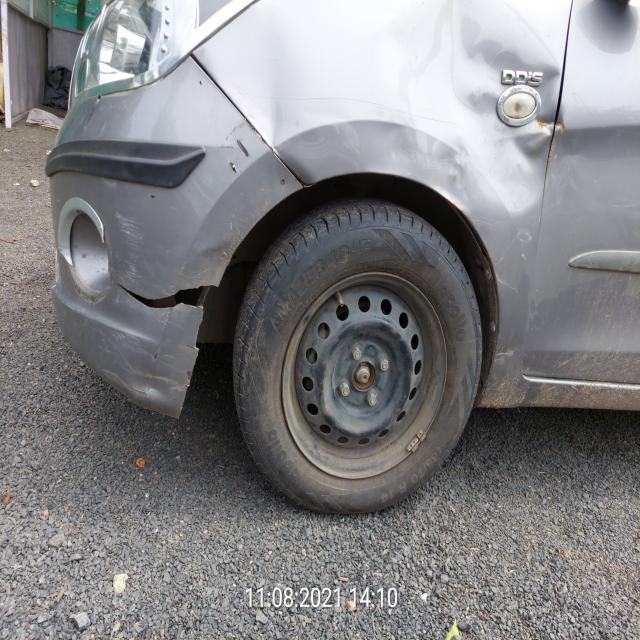damage: (338, 0, 563, 213), (112, 267, 229, 353), (61, 198, 113, 319), (219, 126, 256, 188)
